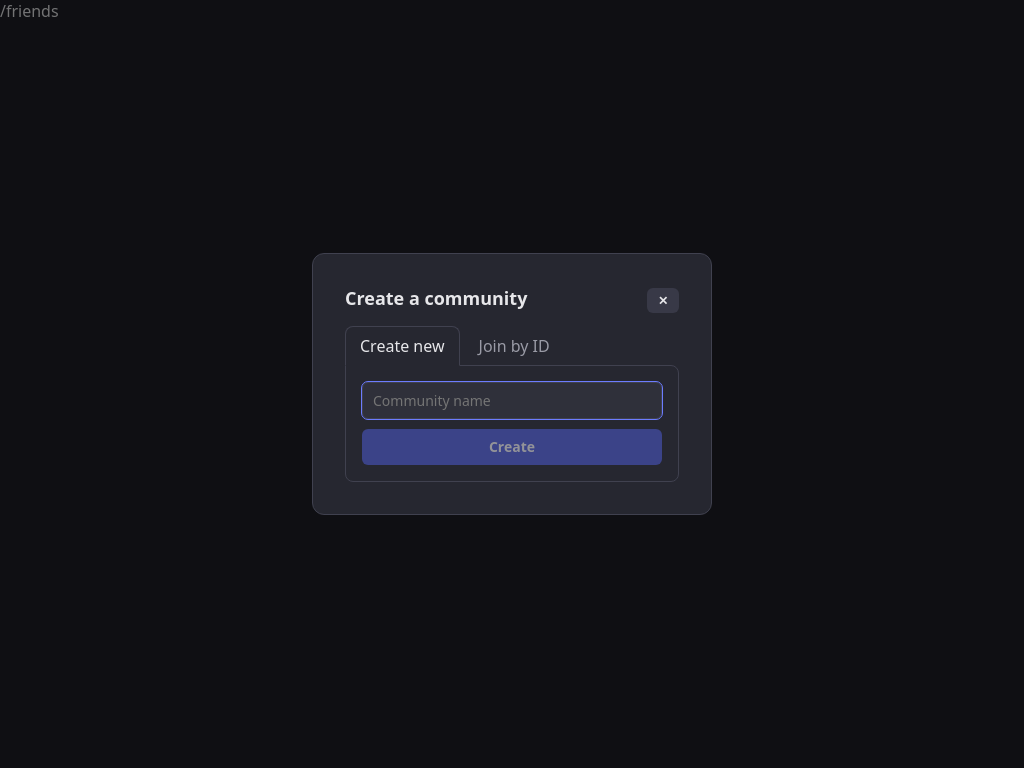
Test case: NewCommunityModal: joining by an invite code › closes and opens the community it joined
Click the tab "Join by ID" at (514, 346), box [464,326,565,366]
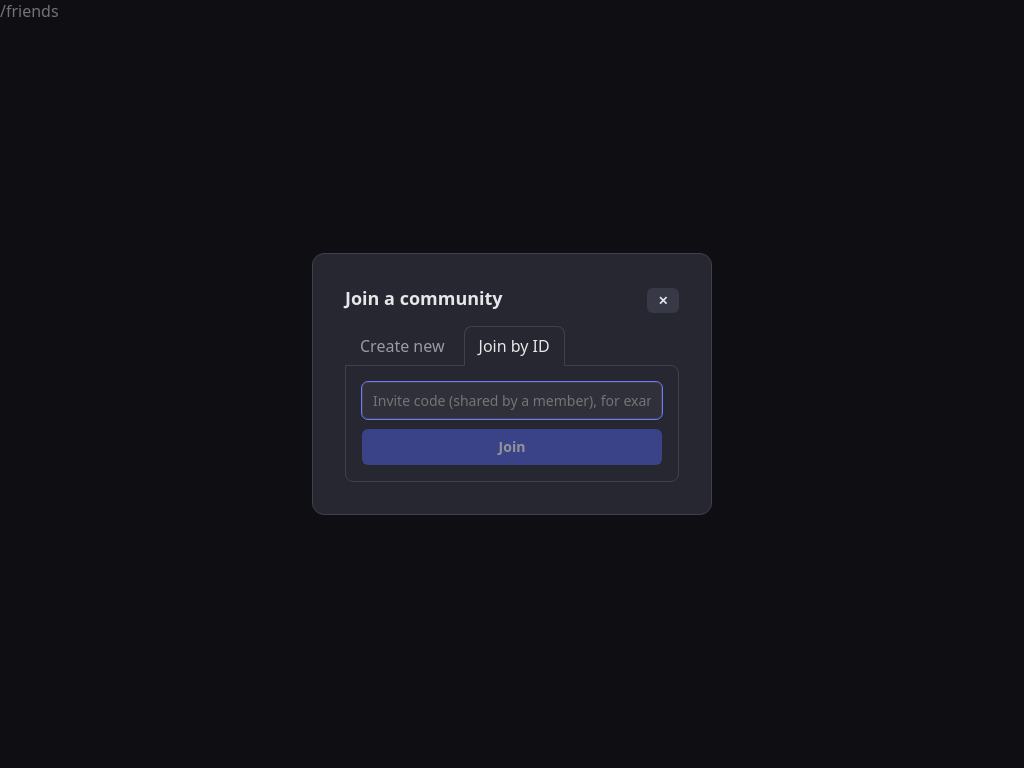
Type "01JABC:far.example#K7M2QXR9TB" into the field with placeholder "Invite code" at (512, 401), box [362,382,662,419]
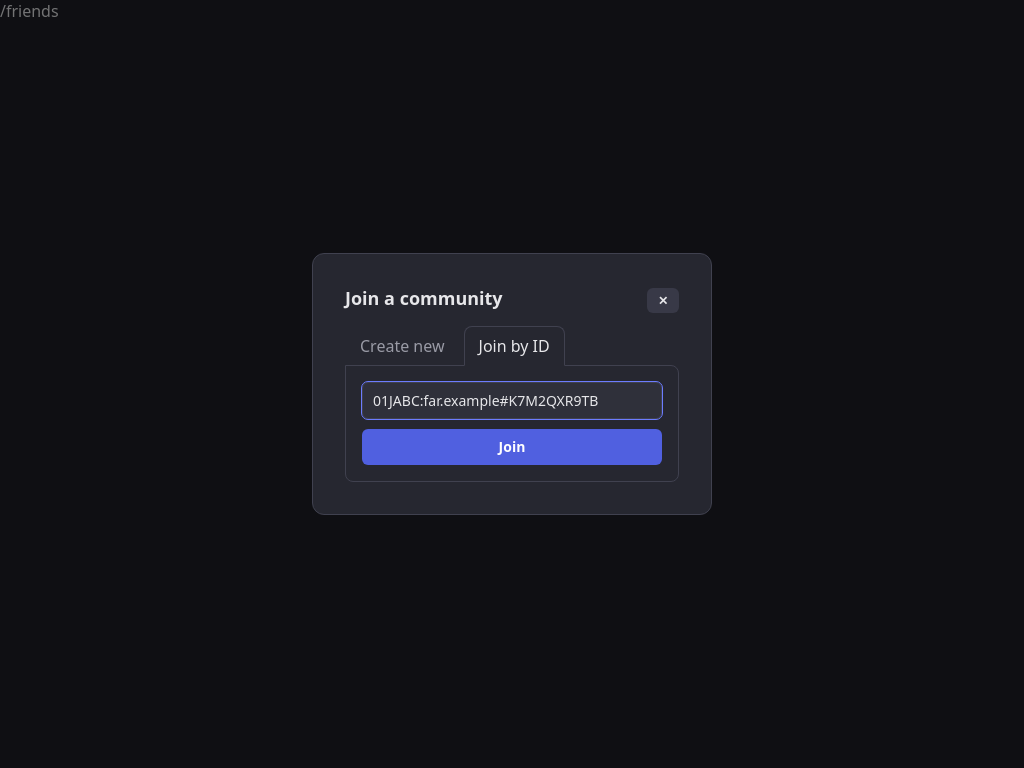
Click the button "Join" at (512, 447), box [362,429,662,465]
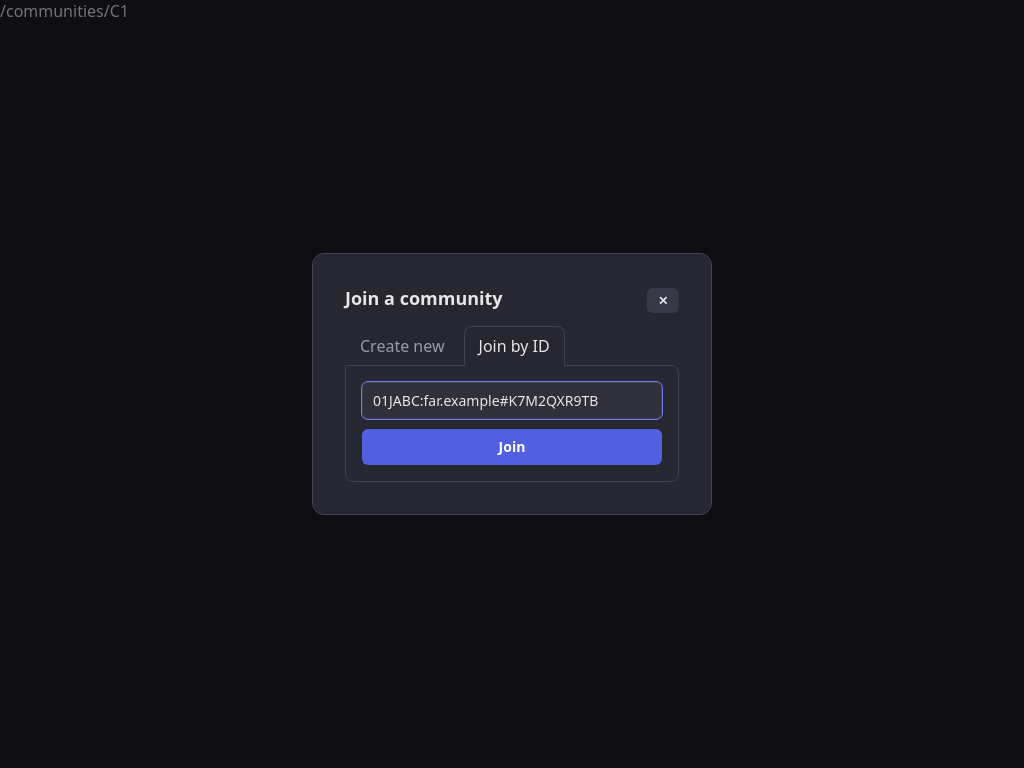
Result: the text with test id "where" reads "/communities/C1" at [0,0,129,22]
